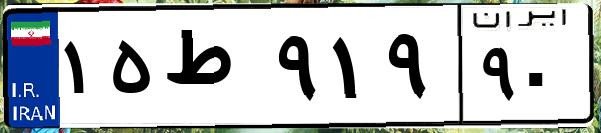0: (525, 38, 570, 115)
1: (330, 28, 385, 110), (57, 26, 110, 100)
5: (110, 28, 158, 98)
9: (270, 28, 330, 110), (385, 28, 445, 110), (475, 38, 525, 113)
ط: (158, 20, 270, 120)
